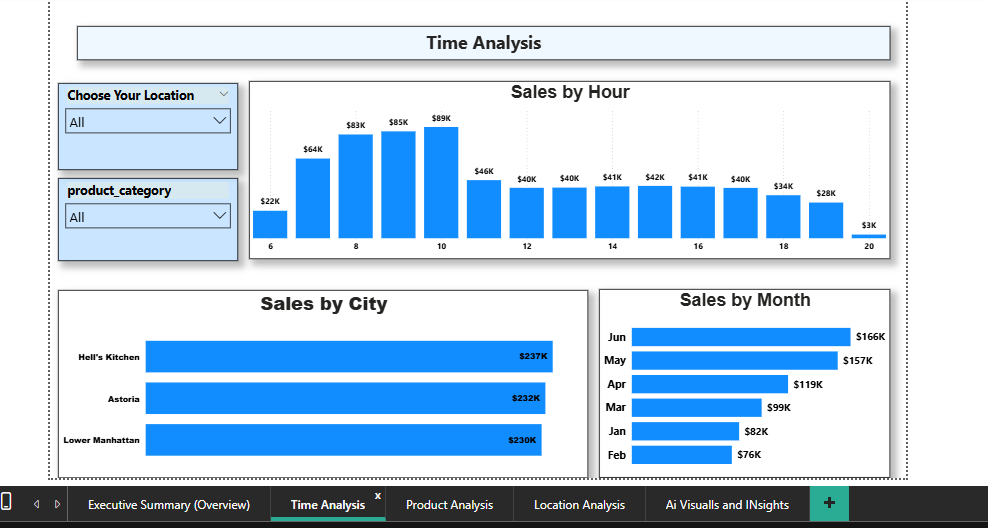

What the dashboard file says about the page in this screenshot:
{"tool":"powerbi","page":{"name":"Time Analysis","canvas":[1280,720],"ordinal":1},"visuals":[{"type":"clusteredBarChart","title":" Sales by Month  ","fields":{"Category":["Dim_Date.Tran_Month"],"Y":["Sum(Fact_Sales.Revenue)"]},"box":[820.1,437.7,434.7,282.3],"z":0},{"type":"clusteredColumnChart","title":" Sales by Hour","fields":{"Category":["Dim_Time.Tran_Hour"],"Y":["Sum(Fact_Sales.Revenue)"]},"box":[297.3,127,957.5,265.9],"z":1000},{"type":"slicer","fields":{"Values":["Dim_Store.store_location"]},"box":[12,130,268.9,130],"z":2000},{"type":"textbox","box":[41,44.3,1214.8,50.8],"z":3000},{"type":"slicer","fields":{"Values":["Dim_Products.product_category"]},"box":[12,271.9,268.9,124],"z":4000},{"type":"clusteredBarChart","title":"Sales by City","fields":{"Category":["Dim_Store.store_location"],"Y":["Sum(Fact_Sales.Revenue)"]},"box":[12.4,438.5,792.1,281],"z":5000}]}

Visuals, with their boxes on the page's 1280x720 design canvas (x1, y1, x2, y2). These are canvas units, not pixel positions in the 988x528 screenshot, which may show the page scaled, cropped or inside an application window:
" Sales by Month  " clusteredBarChart: l=820, t=438, r=1255, b=720
" Sales by Hour" clusteredColumnChart: l=297, t=127, r=1255, b=393
slicer - Dim_Store.store_location: l=12, t=130, r=281, b=260
textbox: l=41, t=44, r=1256, b=95
slicer - Dim_Products.product_category: l=12, t=272, r=281, b=396
"Sales by City" clusteredBarChart: l=12, t=438, r=804, b=720
